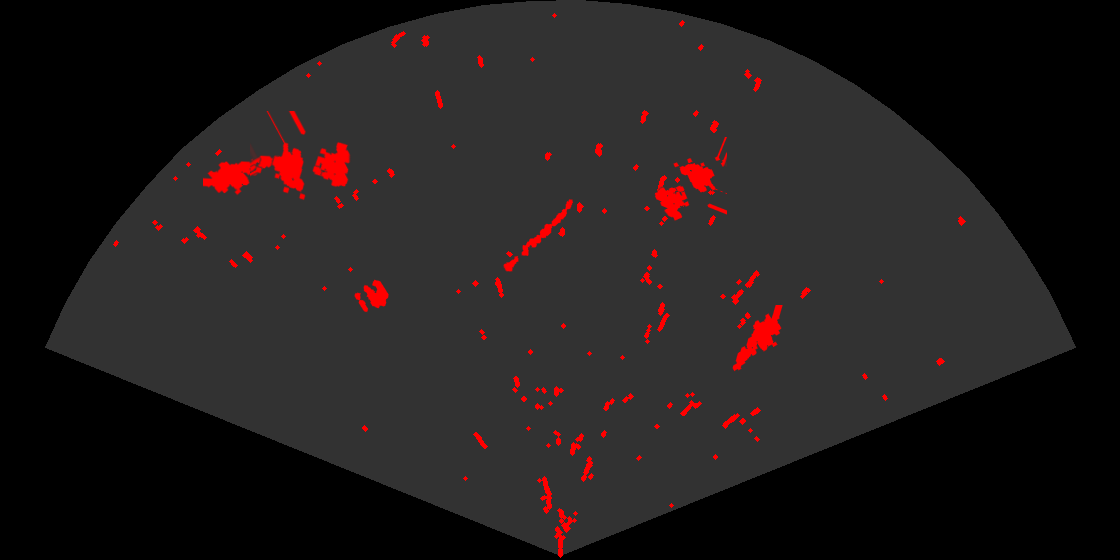ball: (353, 278, 390, 314)
cage: (250, 111, 352, 202), (653, 137, 727, 222)
chain: (502, 198, 575, 273)
frogman: (731, 305, 784, 373), (203, 154, 282, 197)
